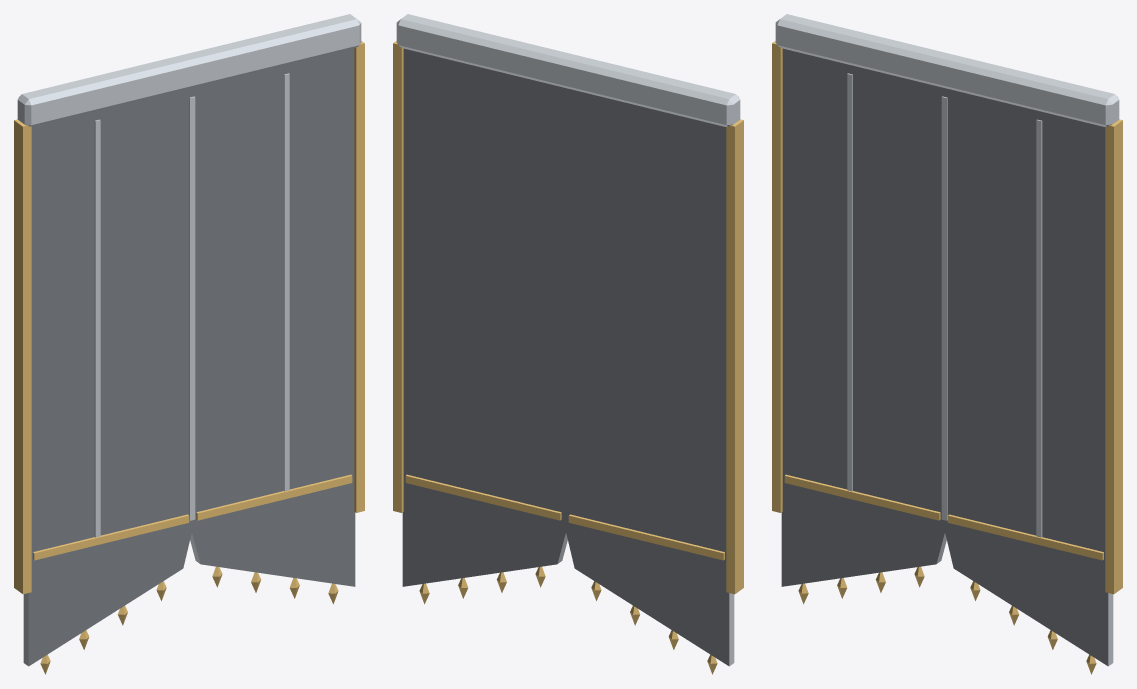
Rendered from BannerCloth.obj.
3 views of the same model, side by side, from view 1: azimuth 30°, elevation 25°; view 2: azimuth 150°, elevation 25°; view 3: azimuth 330°, elevation 25° (orthographic).
Size of the model in its own units: 3.98 by 6.49 by 0.24.
